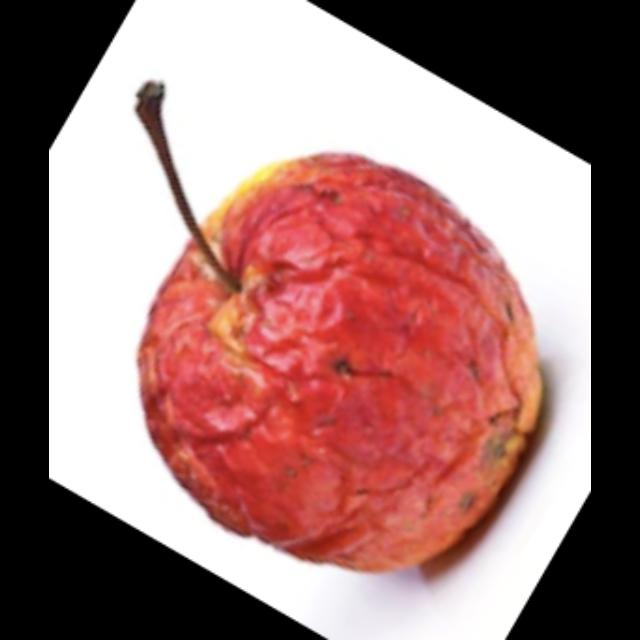Apel Tidak Segar: (65, 44, 582, 608)
